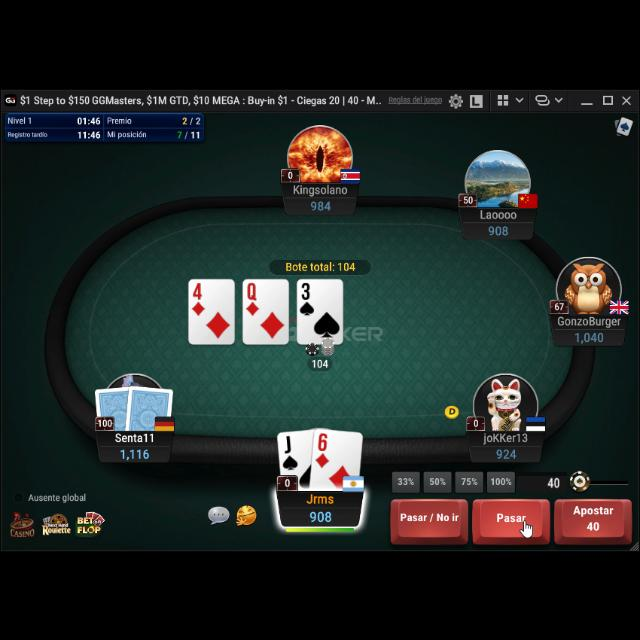3s: (299, 280, 315, 316)
4d: (191, 280, 207, 316)
6d: (314, 431, 332, 469)
Js: (282, 432, 298, 470)
Qd: (244, 281, 260, 317)
bet_text: (312, 358, 331, 368)
card_back: (124, 381, 176, 431), (94, 384, 136, 431)
dealer: (444, 402, 461, 418)
hero_active: (388, 494, 634, 544)
pot_text: (284, 259, 360, 271)
stack_text: (307, 505, 333, 523), (574, 328, 606, 342), (119, 445, 151, 459), (494, 444, 518, 458), (486, 221, 509, 235), (310, 196, 332, 210)
